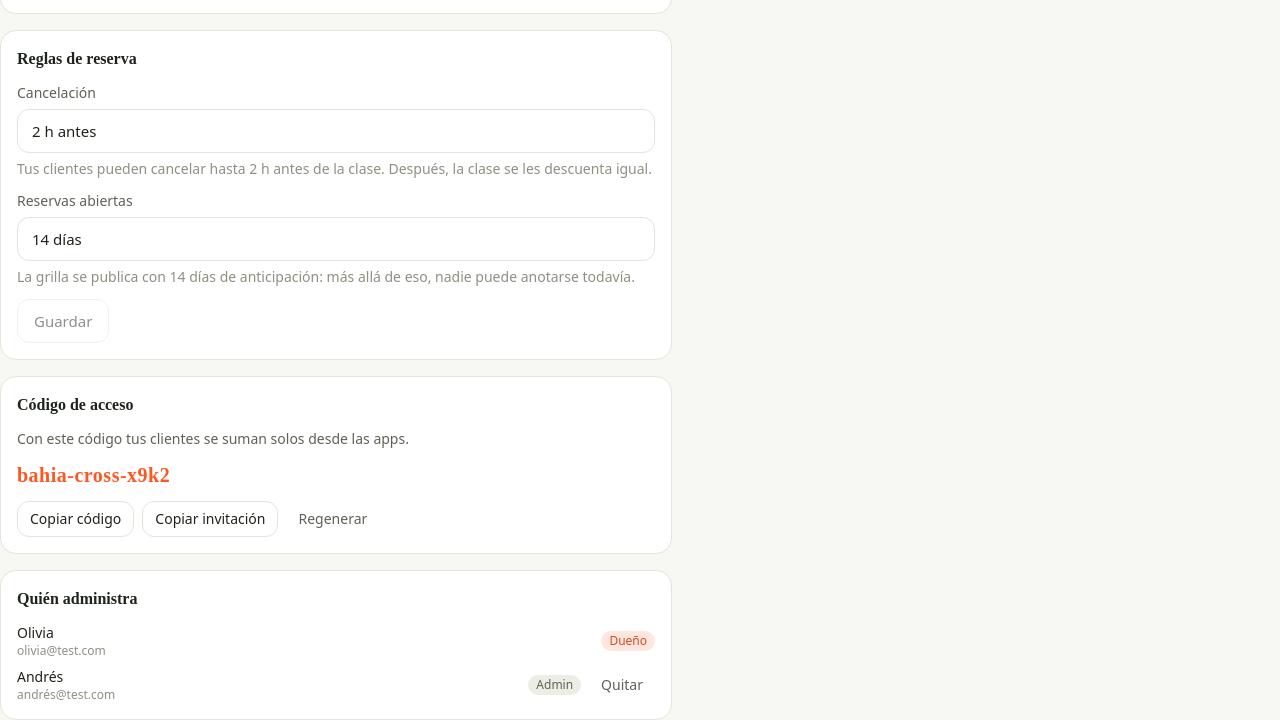
Settings (F3-11) › CANNOT_MODIFY_OWNER del servidor se explica en castellano
The image size is (1280, 720).
(page scrolled)
Click the button "Quitar" at [622, 685], box [589,667,655,703]
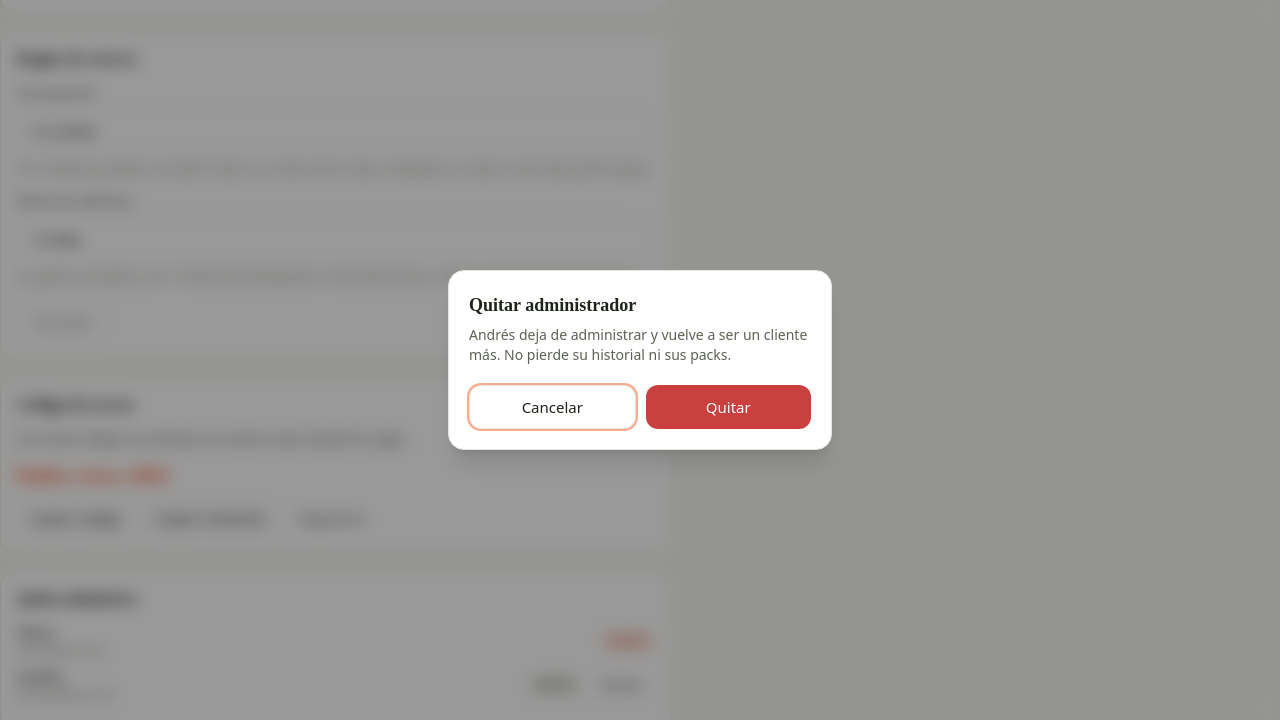
Click the button "Quitar" at [728, 407], box [646,385,811,429]
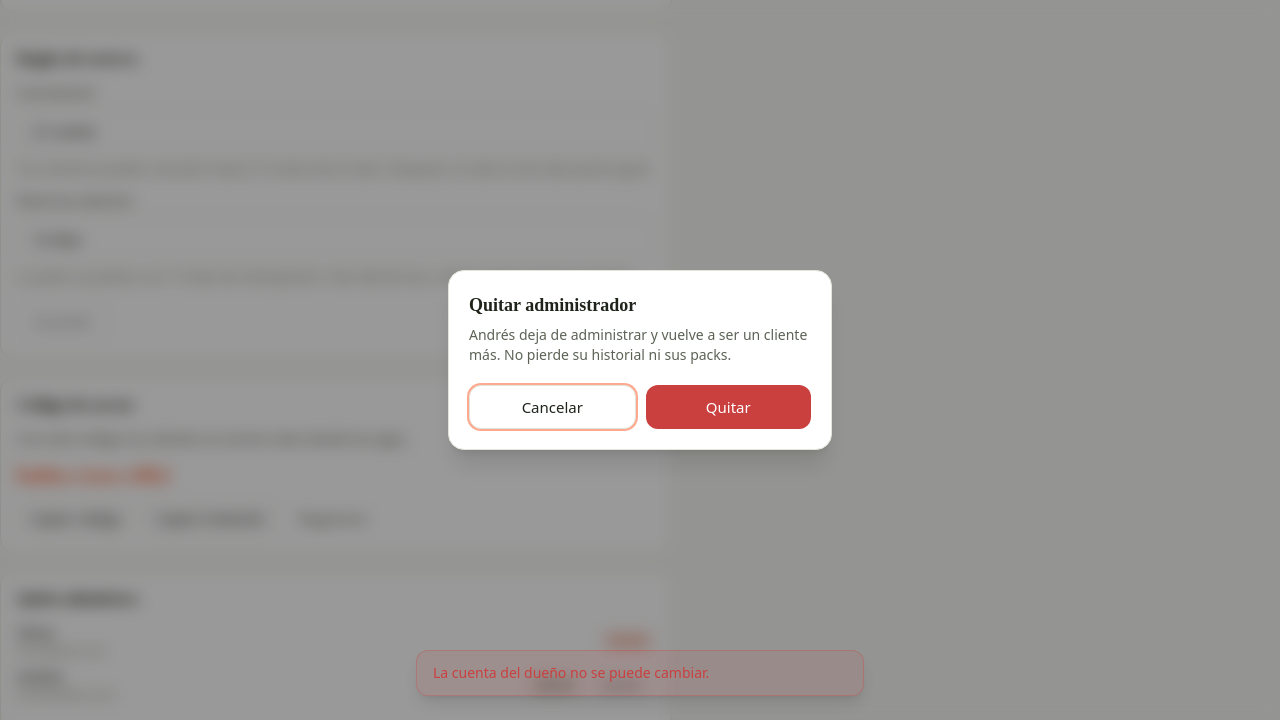
Expected: the text "La cuenta del dueño no se puede cambiar." is shown, [416,650,864,696]
